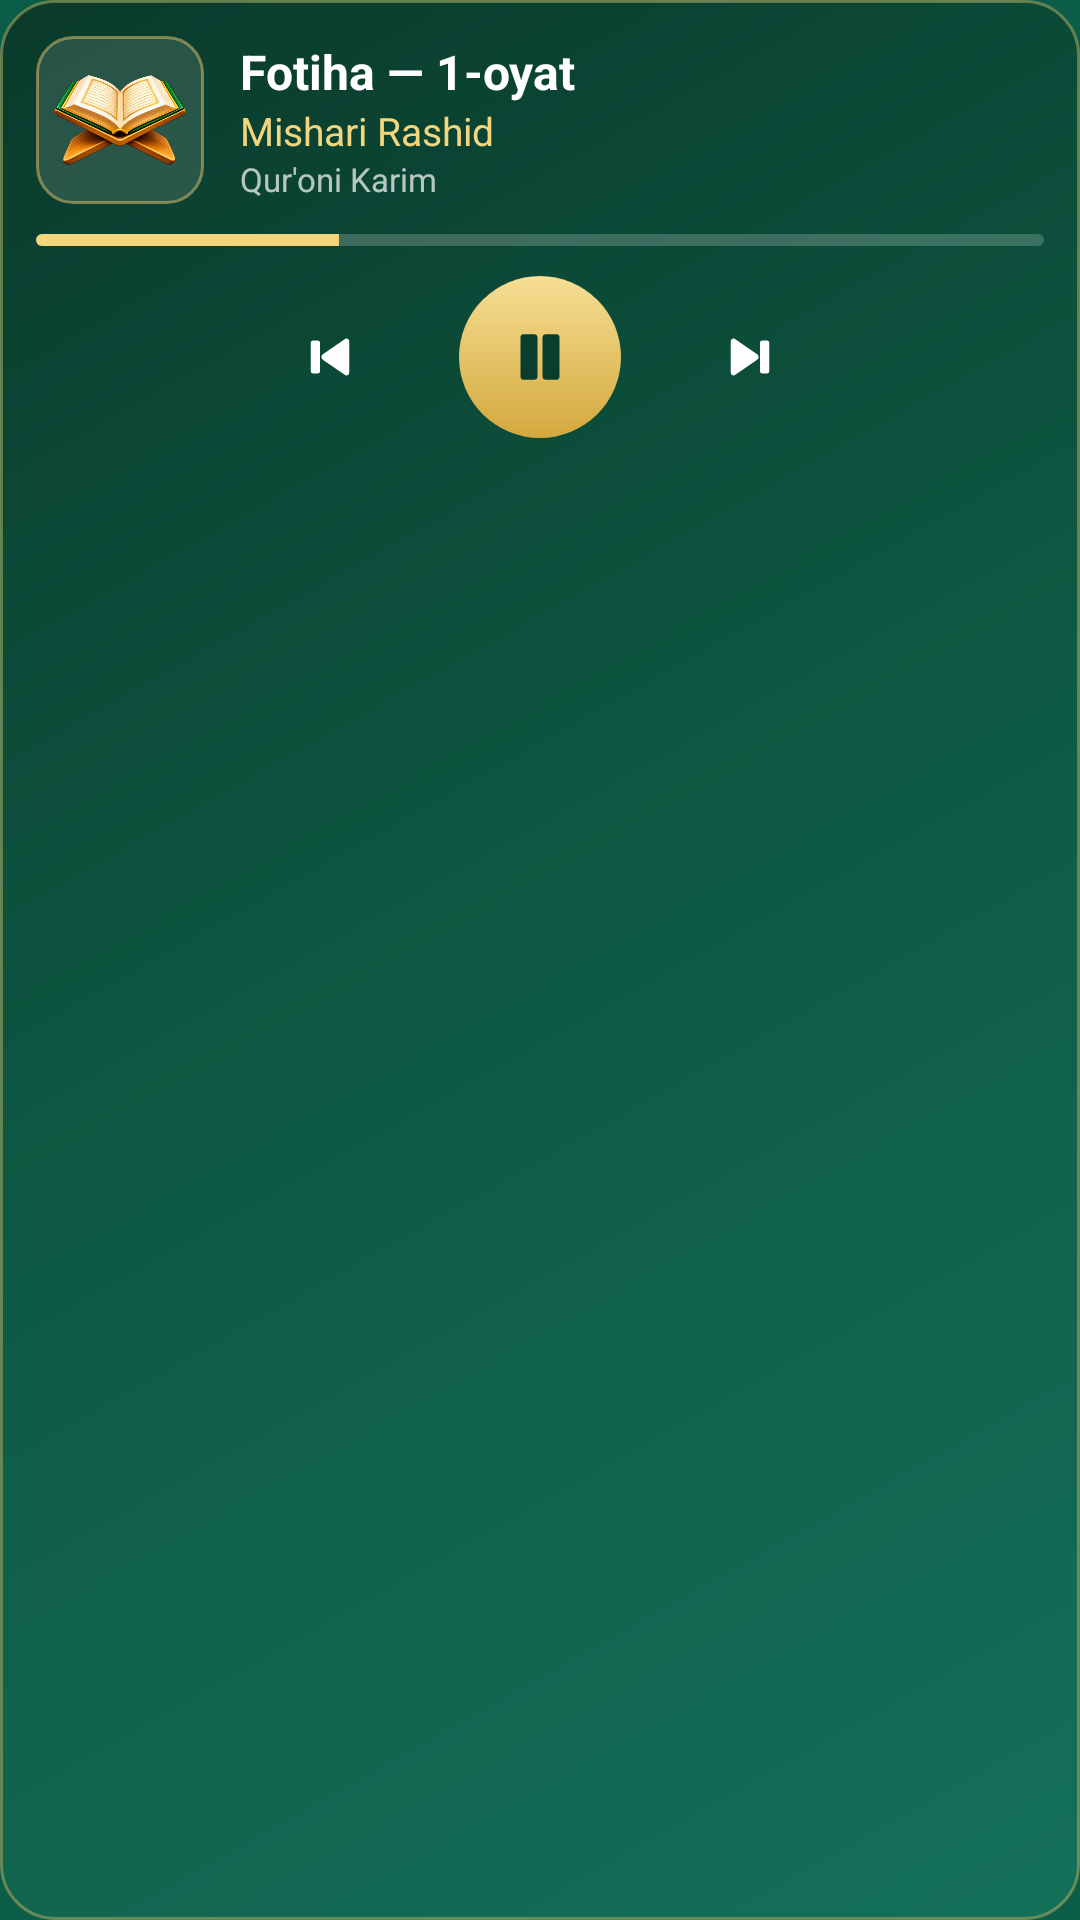

Screen size 1080×1920. Icon name, then its center in pixels as point (x, y):
Keyingi: point (750, 357)
Oldingi: point (330, 357)
quran: point (120, 120)
